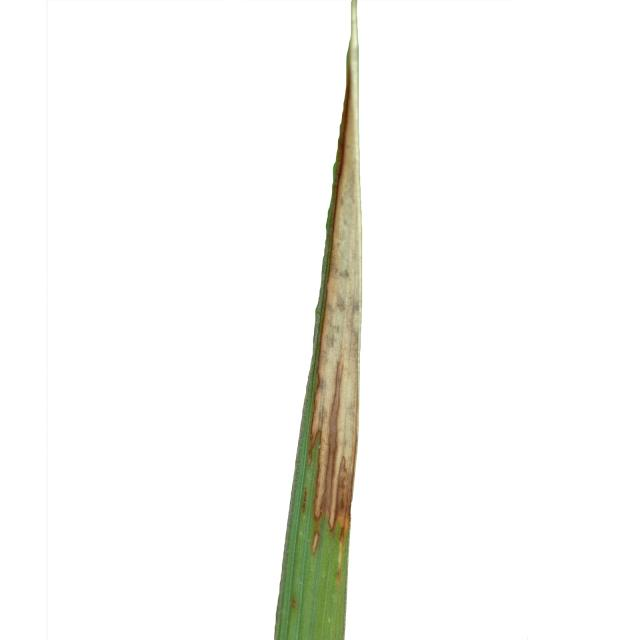Leaf blast: (238, 1, 458, 640)
